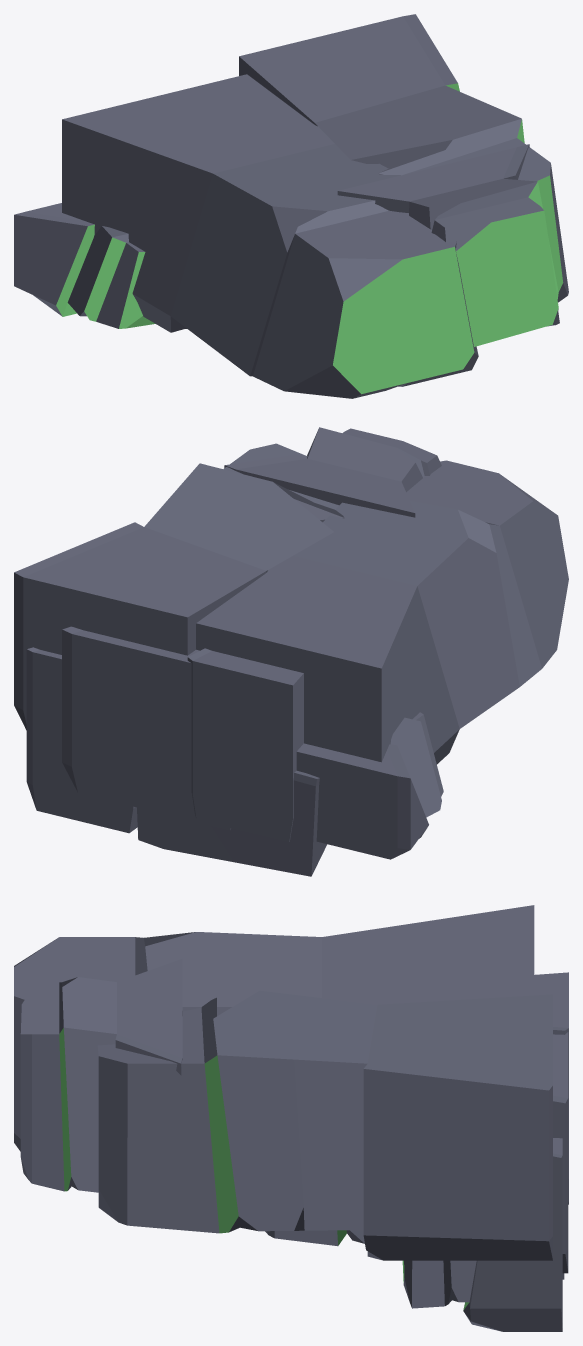
The model's file is Cliff1Fix.fbx.
3 views of the same model, one above another, from view 1: azimuth 30°, elevation 25°; view 2: azimuth 150°, elevation 25°; view 3: azimuth 270°, elevation 25° (orthographic). The views are drawn at different scales.
Visible parts, largest first — view 1: Cube.001; view 2: Cube.001; view 3: Cube.001.
Boxes of the visible parts, <box> form: Cube.001: <box>14,14,568,398</box>; Cube.001: <box>14,427,568,876</box>; Cube.001: <box>14,905,568,1331</box>.
Size of the model in its own units: 630 by 369 by 668.
